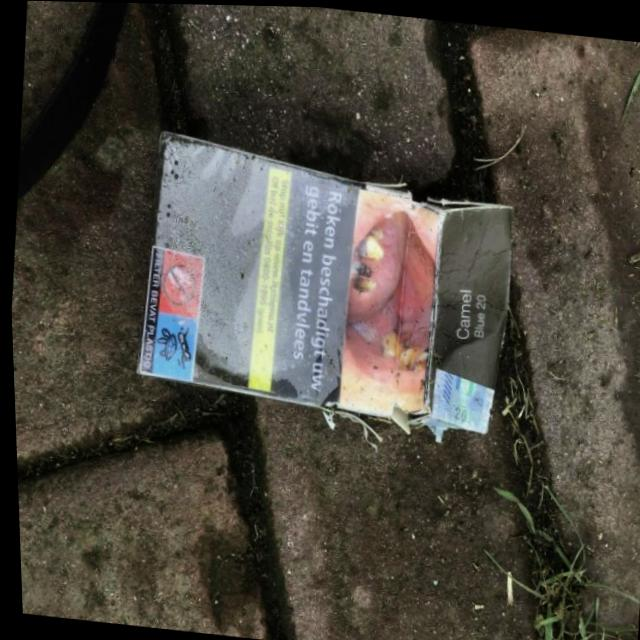Paper: (118, 119, 528, 450)
